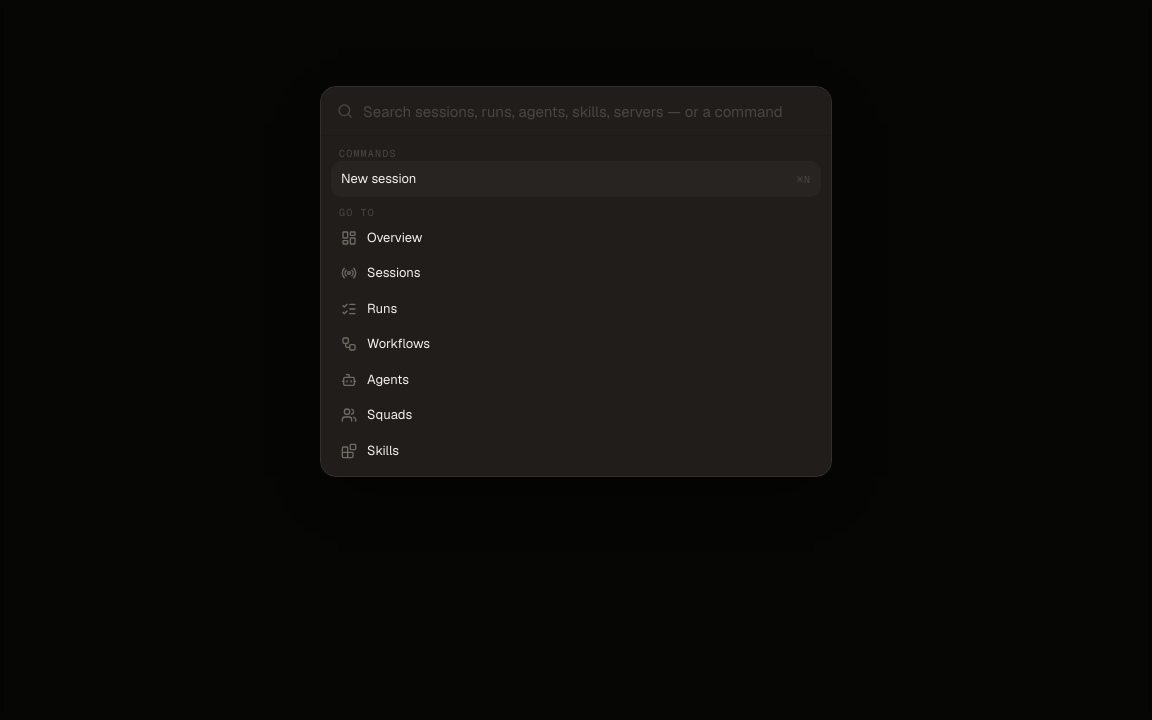
Scenario: CommandPalette › fuzzy-filters the list as you type
This screenshot has width=1152, height=720.
Type "analy" into the dropdown at (589, 111), box [363, 87, 815, 135]
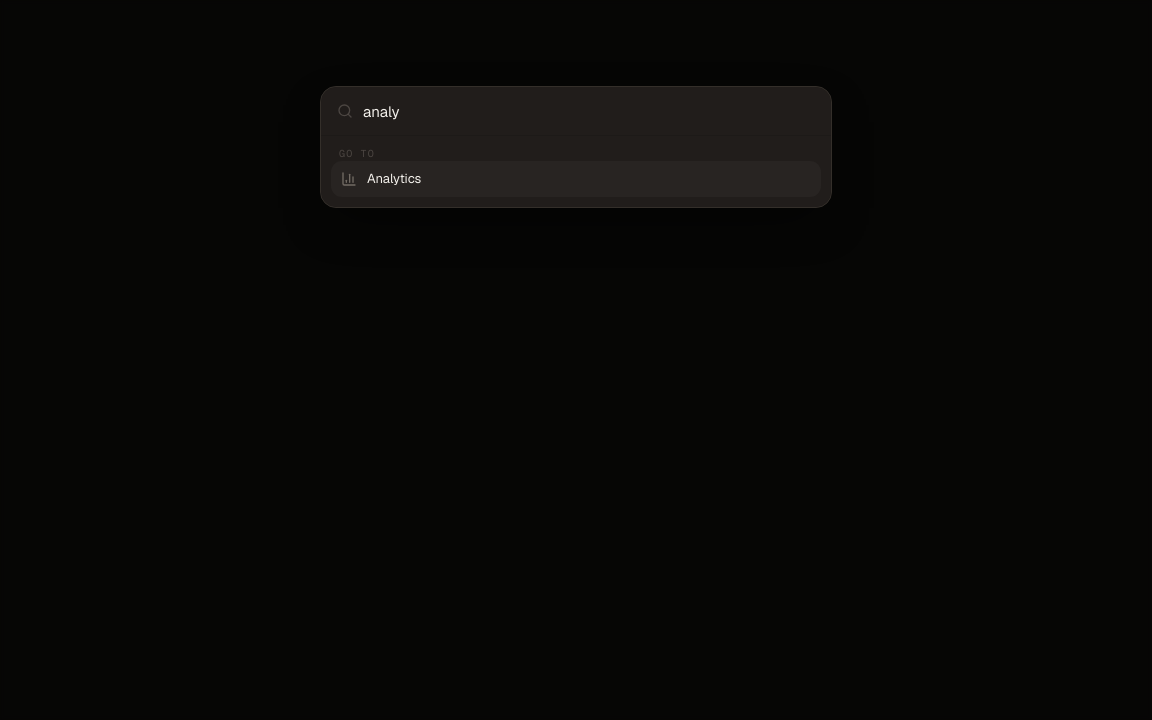
expect the option "Analytics" is shown: met, box [331, 161, 821, 197]
